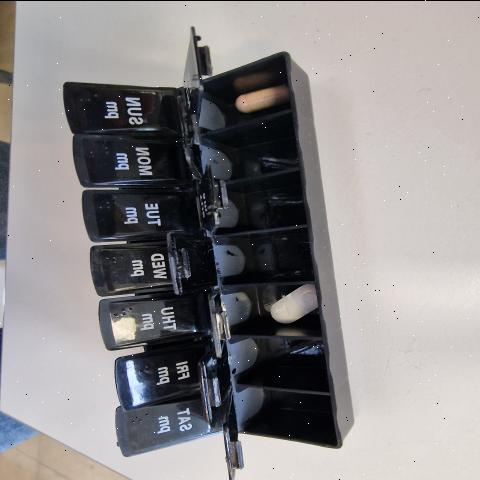Open: (198, 340, 332, 426), (193, 27, 292, 139), (223, 393, 337, 478), (169, 226, 312, 293), (189, 104, 304, 179), (211, 284, 322, 355), (209, 170, 307, 234), (115, 340, 212, 360), (92, 240, 169, 247), (86, 183, 184, 188)
